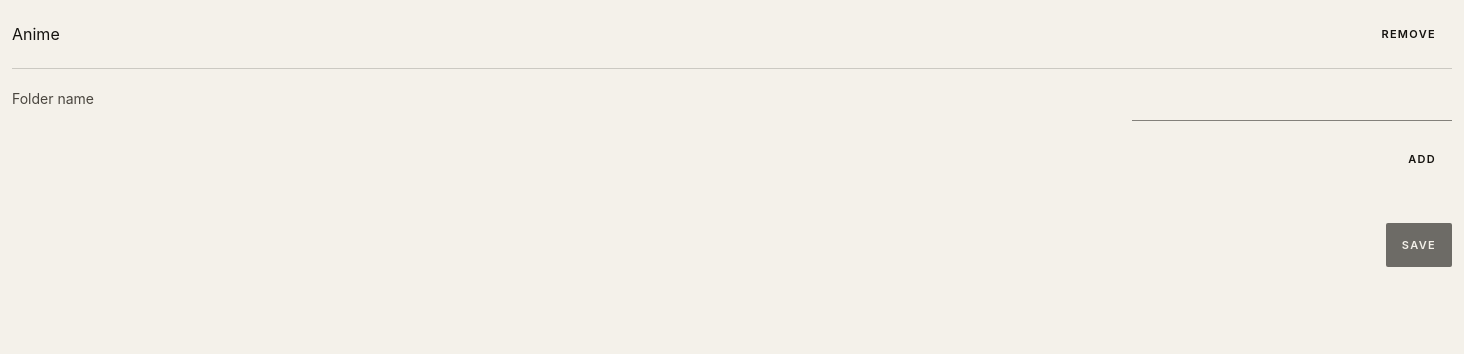
AnimeFolders › adds a trimmed name with Enter, removes by name, and saves the list
Type "  Cartoons " into the field labelled "Folder name" at (1292, 99), box 1132,77 -> 1452,121
Then press Enter
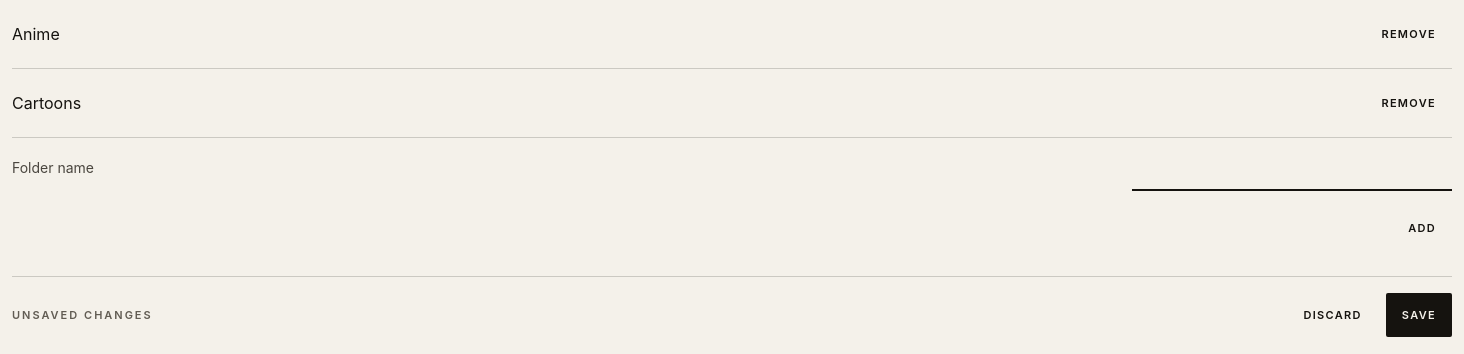
Check: the field labelled "Folder name" is empty, box 1132,146 -> 1452,190
Click the button with aria-label "Remove Anime" at (1409, 34), box 1365,12 -> 1452,56
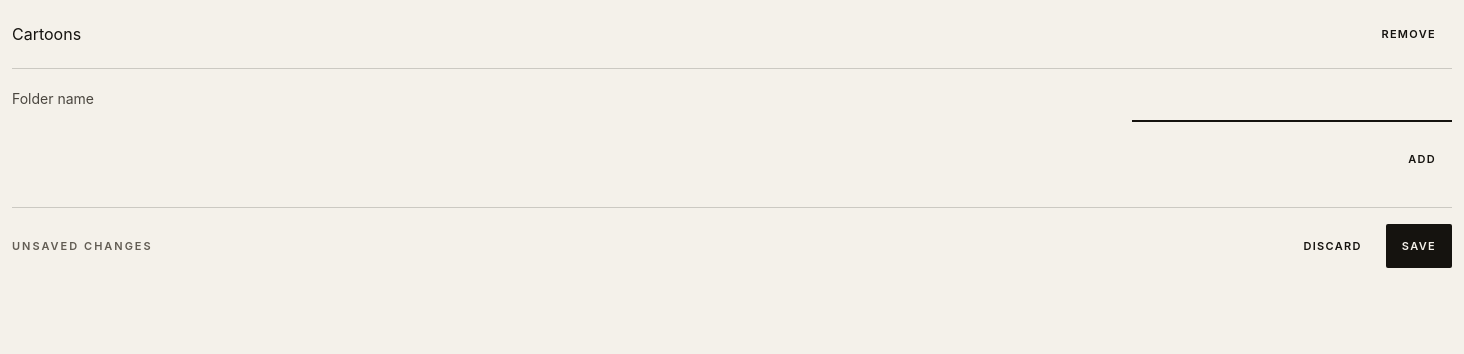
Click the button "Save" at (1419, 246), box 1386,224 -> 1452,268
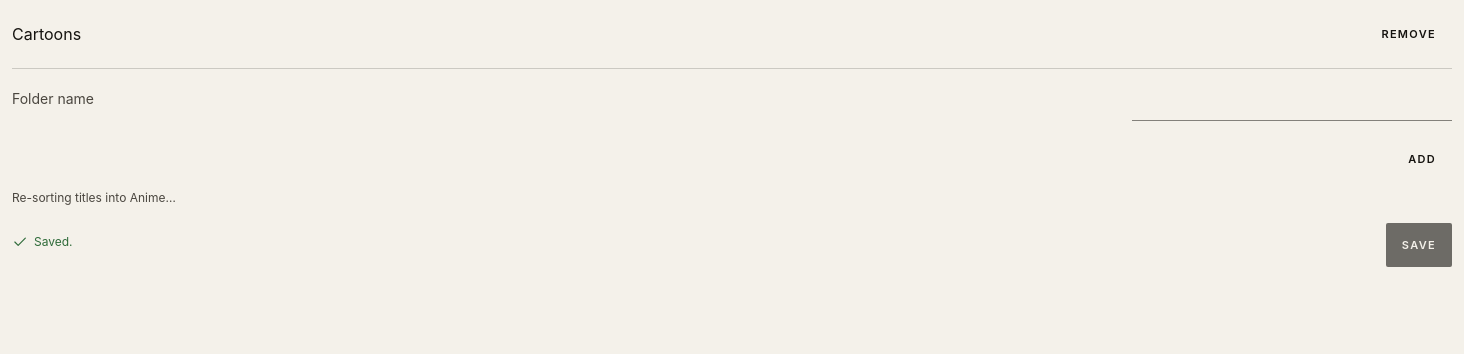
Check: the text "Re-sorting titles into Anime…" is shown, box 12,190 -> 176,205
